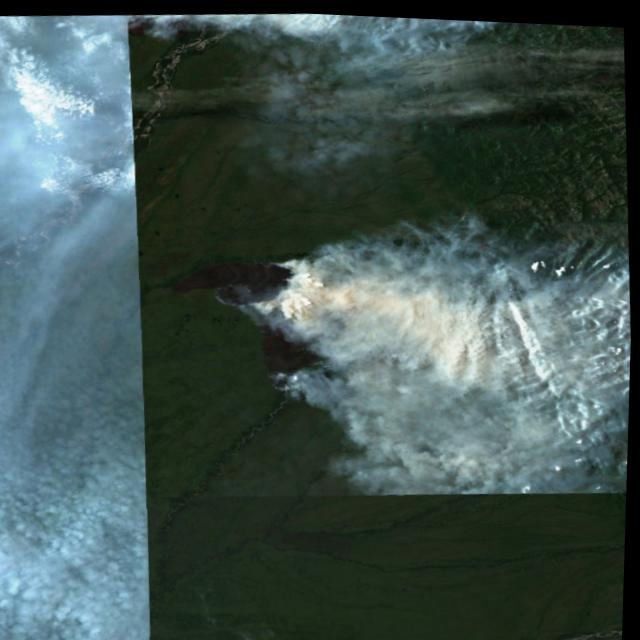fire: (204, 246, 364, 399)
